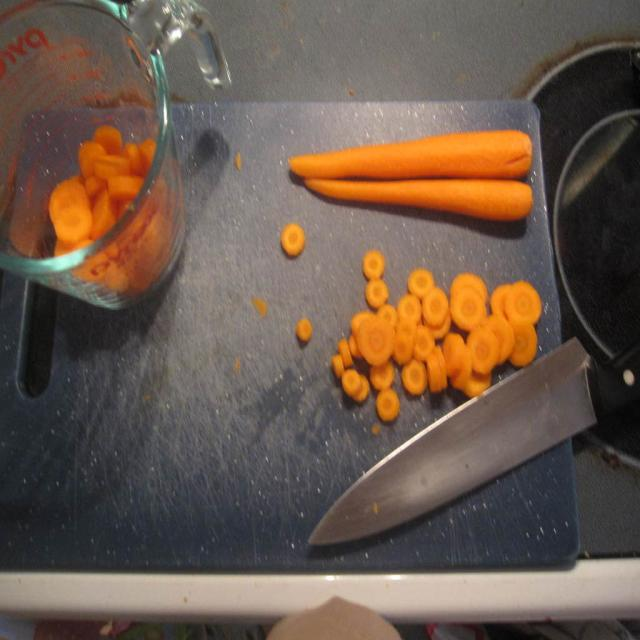Carrot: (287, 129, 533, 182), (307, 172, 533, 213)
